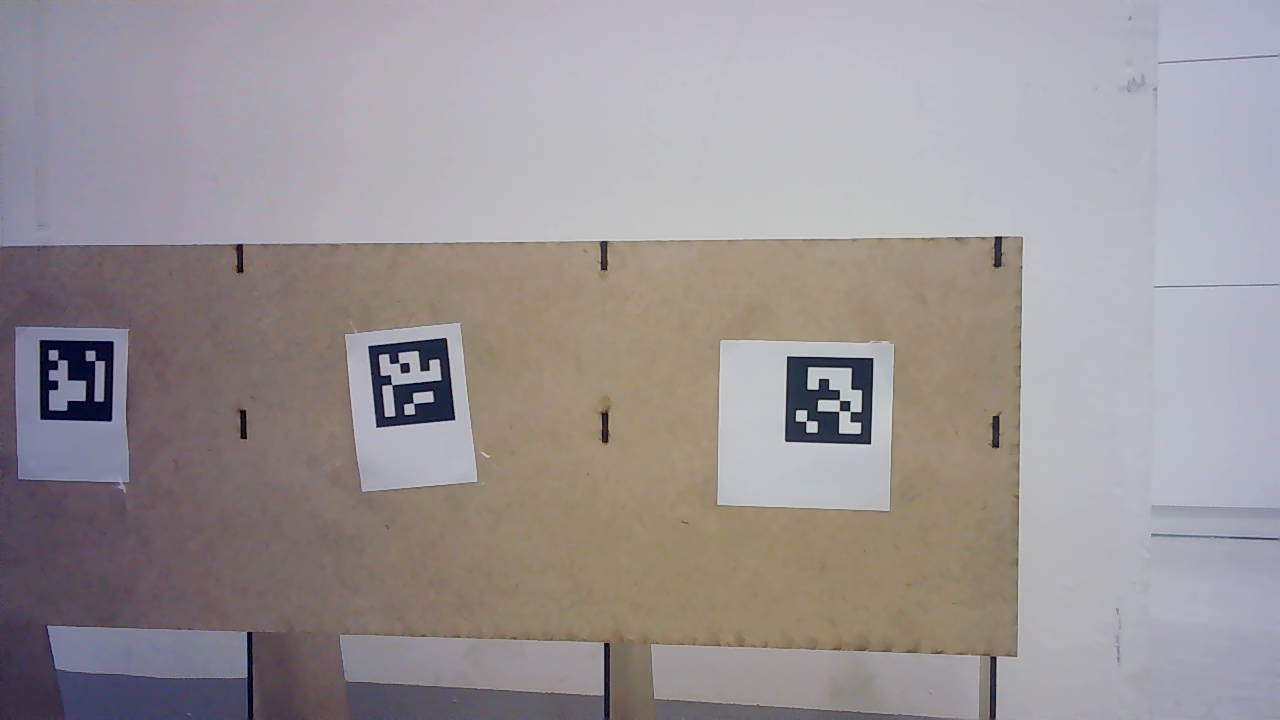aruco: (712, 333, 896, 515), (333, 318, 486, 504), (8, 317, 140, 492)
